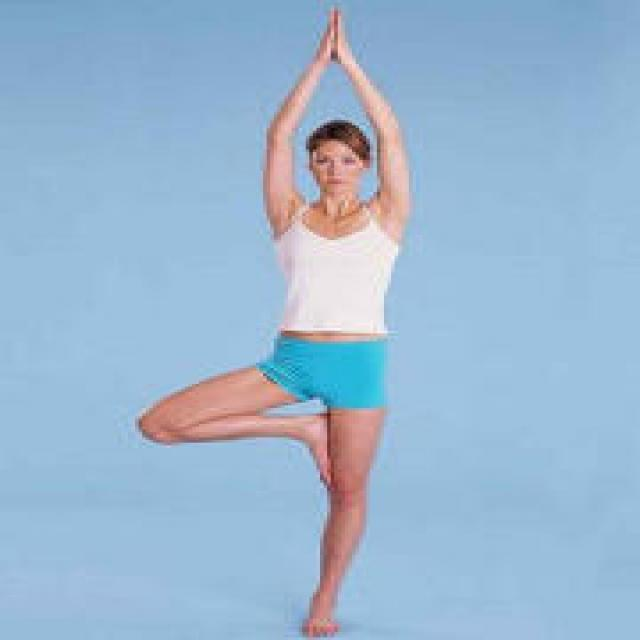yoga-pose tree: (136, 0, 410, 634)
